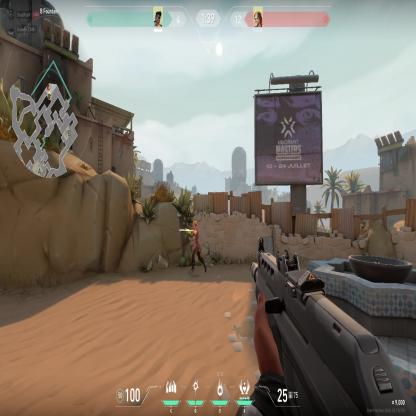enemy: (185, 219, 208, 276)
